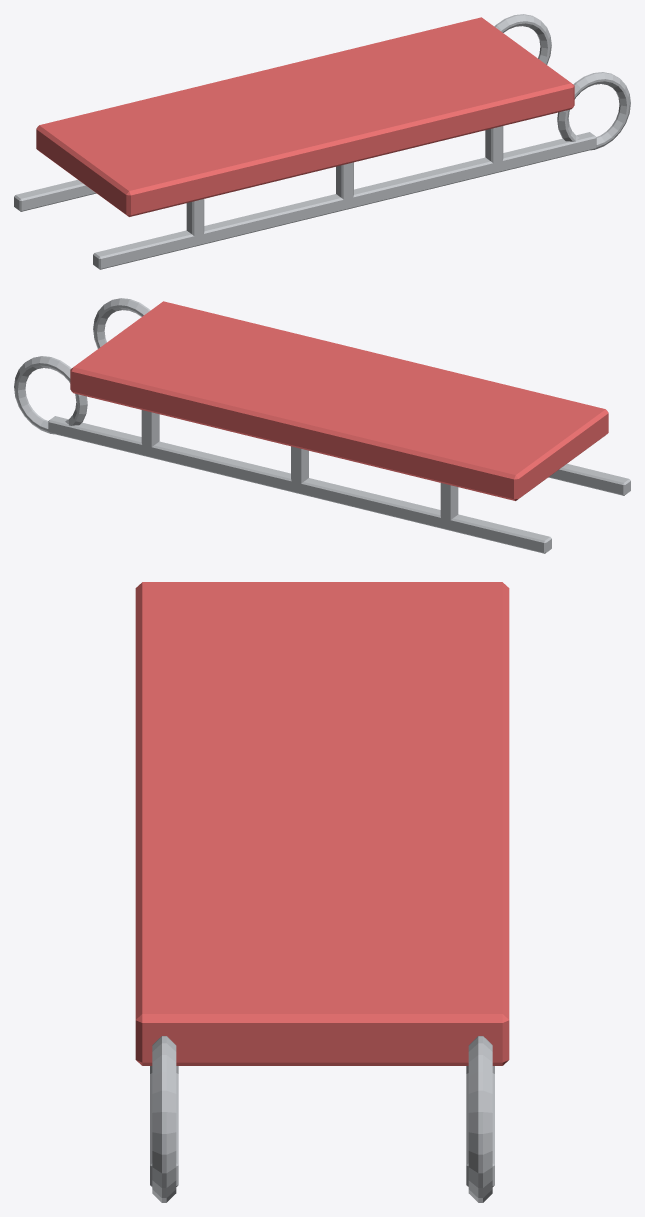
3 views of the same model, one above another, from view 1: azimuth 30°, elevation 25°; view 2: azimuth 150°, elevation 25°; view 3: azimuth 270°, elevation 25° (orthographic). The views are drawn at different scales.
Parts seen in each view (by area): view 1: SliderVisual; view 2: SliderVisual; view 3: SliderVisual.
Boxes of the visible parts, x1,y1,x2,y2 form: SliderVisual: (14,14,630,269); SliderVisual: (14,298,630,553); SliderVisual: (135,582,509,1202).
Bounding box in the file's own units: 0.4291 × 0.0591 × 0.13.
